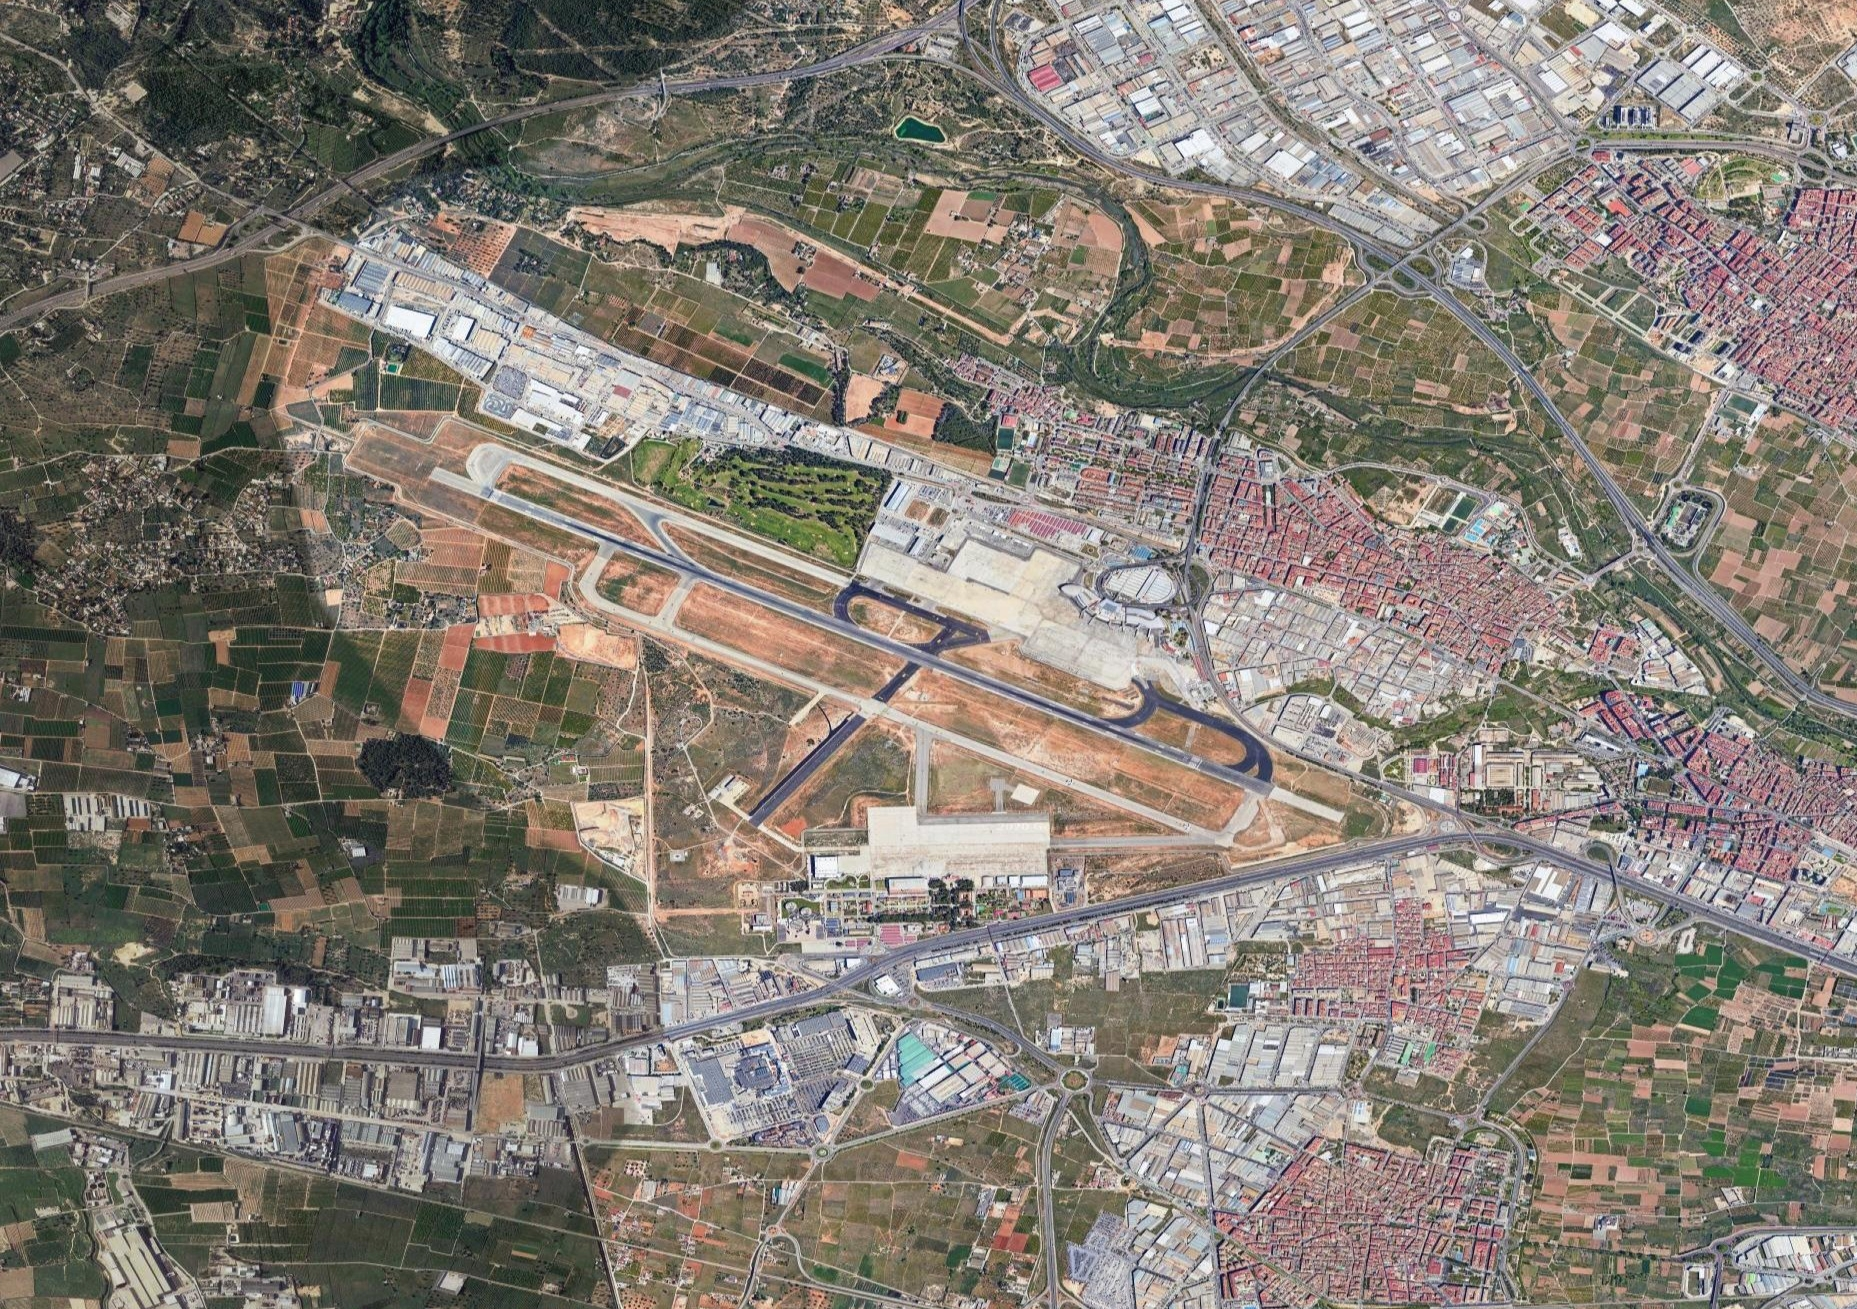airport: (424, 439, 1279, 878)
industrial: (1, 970, 606, 1166), (1033, 1, 1637, 195)
motorway: (1, 1021, 348, 1061), (599, 997, 761, 1064), (142, 217, 288, 288), (1, 265, 146, 336), (282, 143, 415, 220), (1436, 827, 1611, 885), (1075, 863, 1251, 919), (347, 1038, 596, 1077), (878, 18, 1014, 88), (574, 58, 759, 108), (1543, 408, 1630, 511), (1254, 834, 1436, 884), (884, 917, 1071, 963), (1458, 312, 1548, 408), (415, 102, 571, 157), (1363, 241, 1465, 313), (762, 958, 884, 1017), (1266, 285, 1358, 363), (1629, 514, 1714, 598), (1237, 193, 1367, 246), (1099, 152, 1237, 203), (1009, 85, 1102, 157), (1731, 926, 1857, 977), (1608, 873, 1725, 924), (907, 994, 1024, 1044), (756, 40, 880, 86), (1708, 596, 1783, 669), (1782, 669, 1857, 730)
